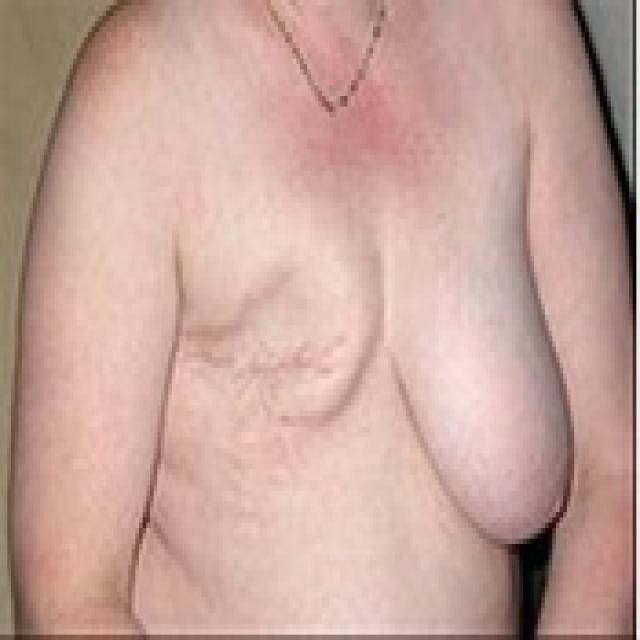Seno herido: (163, 189, 380, 472)
Seno ileso: (384, 188, 580, 576)
